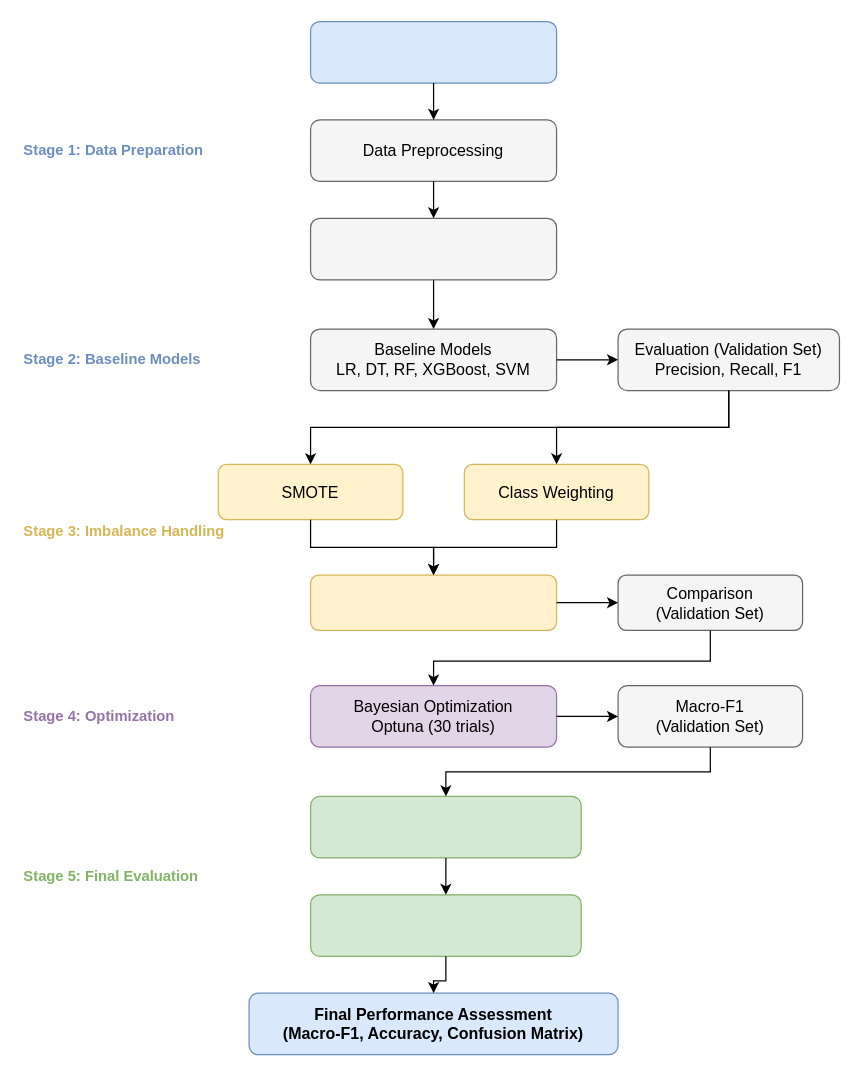
Image size: 861x1076. Some labels were removed from this diagram. Here are the shapes that lost their labels. From the top down, the centre of each, then its label:
At point (433, 51): "UNSW-NB15 Dataset (Official Split)".
At point (433, 248): "Training Set (85%) Validation Set (15%)".
At point (433, 602): "SMOTE only".
At point (445, 826): "Optimized XGBoost + SMOTE".
At point (445, 925): "Official Testing Set (Unseen Data)".
